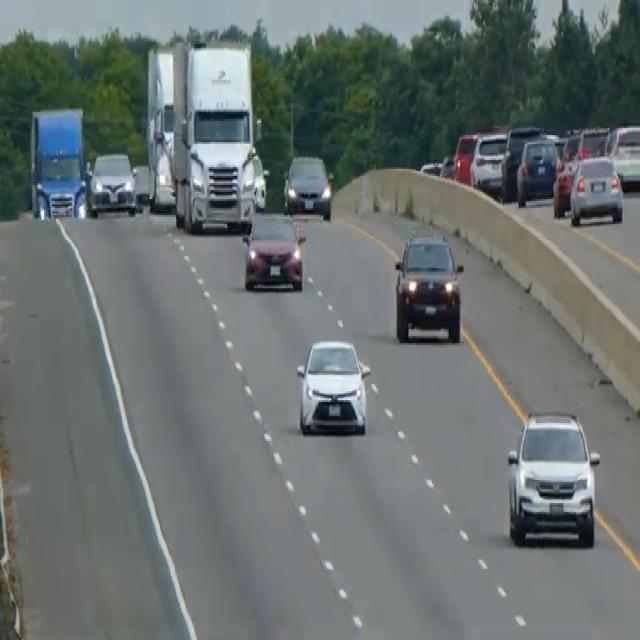car: (295, 334, 371, 436), (240, 210, 306, 292), (568, 153, 624, 226), (86, 149, 137, 217), (283, 151, 332, 219), (515, 135, 560, 206), (501, 123, 542, 197), (469, 128, 508, 196), (604, 121, 639, 190), (452, 130, 477, 183), (251, 151, 267, 210)
jeep: (504, 404, 601, 550), (393, 231, 464, 343)
lorry: (169, 37, 258, 235), (28, 103, 89, 221)
